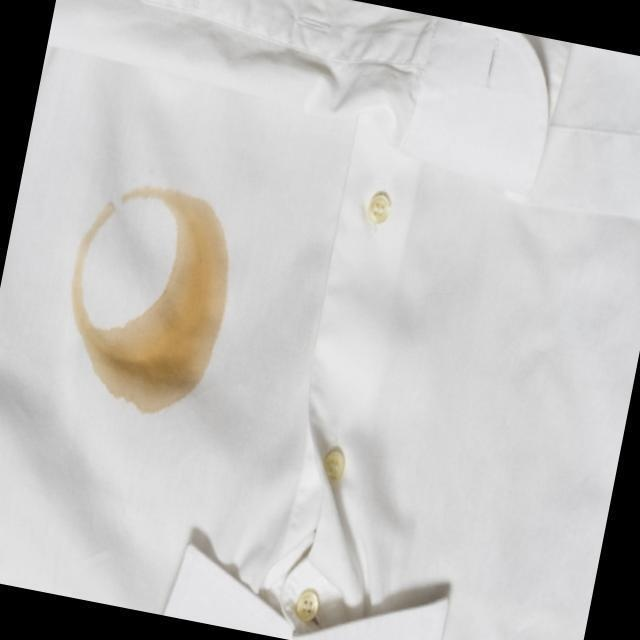coffee: (85, 314, 225, 414), (164, 192, 235, 312)
